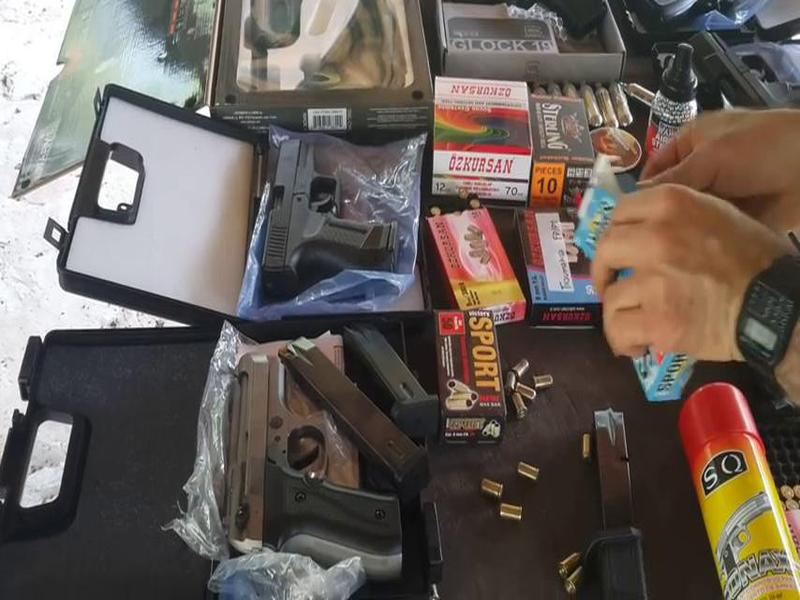Pistola: (193, 335, 435, 593), (243, 130, 405, 303)
